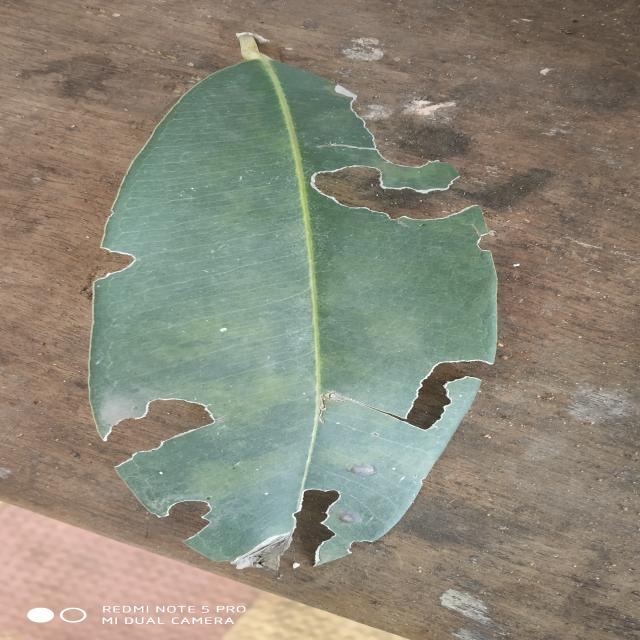nerale: (89, 34, 496, 570)
